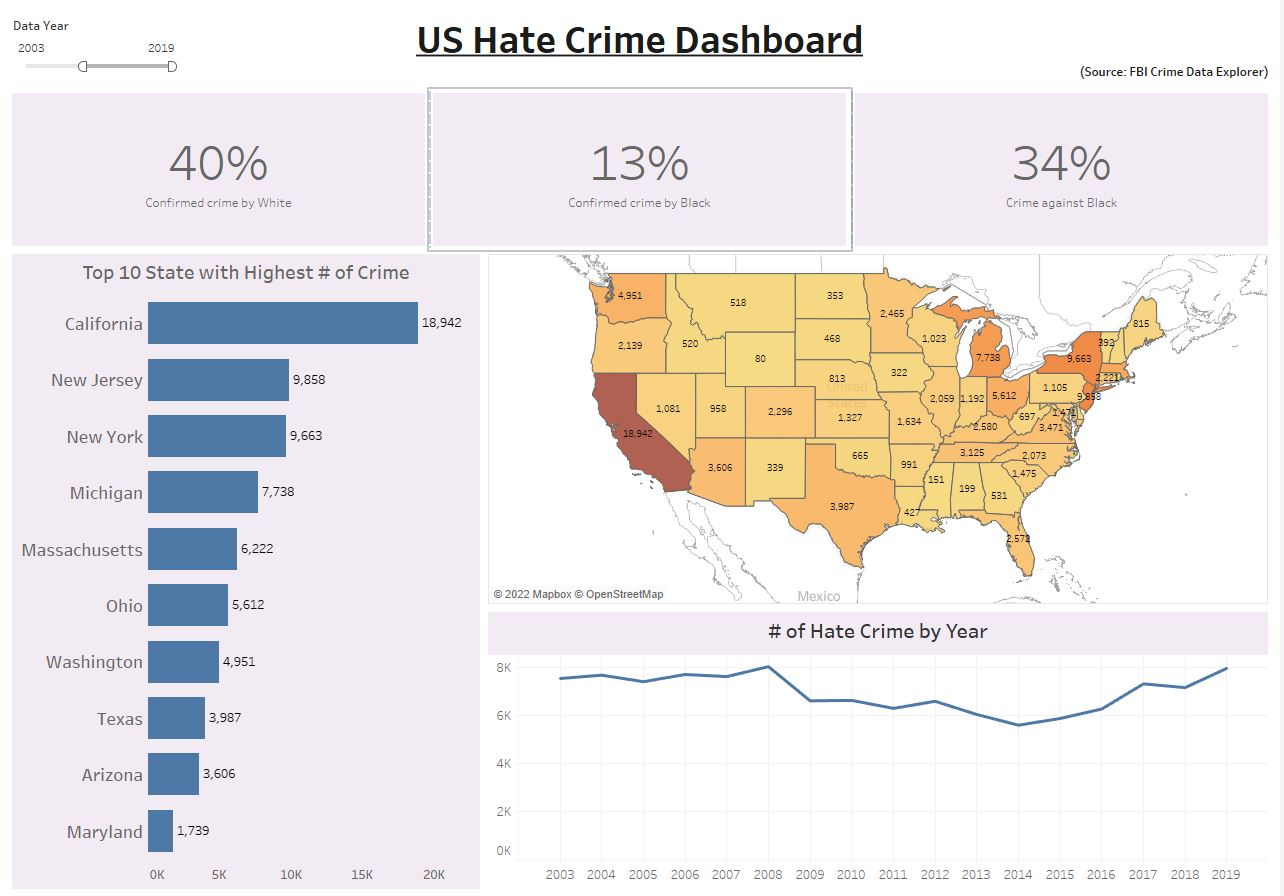

The dashboard page shown, as its layout file describes it:
{"tool":"tableau","page":{"name":"Dashboard 1","canvas":[1000,800],"ordinal":0},"visuals":[{"type":"text","box":[8,8,984,86]},{"type":"filter","title":"Year","param":"[federated.0vldhr91eiw7k714rlffl0uop3ow].[none:DATA_YEAR:qk]","box":[16,22,157,56]},{"type":"image","param":"G:/My Drive/umn/Projects/hate_crime_snowflake_tableau/tableau-software-logo-F1CE","box":[200,22,58,53]},{"type":"text","box":[8,94,328,141]},{"type":"text","box":[336,94,328,141]},{"type":"text","box":[664,94,328,141]},{"type":"worksheet","title":"TopN","mark":"Automatic","rows":["STATE_NAME"],"cols":["Calculation_2411396164802621440"],"box":[8,235,328,557]},{"type":"worksheet","title":"Map","mark":"Multipolygon","box":[336,235,656,278.5]},{"type":"worksheet","title":"Year","mark":"Automatic","rows":["Calculation_2411396164802621440"],"cols":["DATA_YEAR"],"box":[336,513.5,656,278.5]}]}

Visuals, with their boxes on the page's 1000x800 design canvas (x1, y1, x2, y2). These are canvas units, not pixel positions in the 1284x896 screenshot, which may show the page scaled, cropped or inside an application window:
text: bbox(8, 8, 992, 94)
"Year" filter: bbox(16, 22, 173, 78)
image: bbox(200, 22, 258, 75)
text: bbox(8, 94, 336, 235)
text: bbox(336, 94, 664, 235)
text: bbox(664, 94, 992, 235)
"TopN" worksheet: bbox(8, 235, 336, 792)
"Map" worksheet (Multipolygon marks): bbox(336, 235, 992, 514)
"Year" worksheet: bbox(336, 514, 992, 792)
